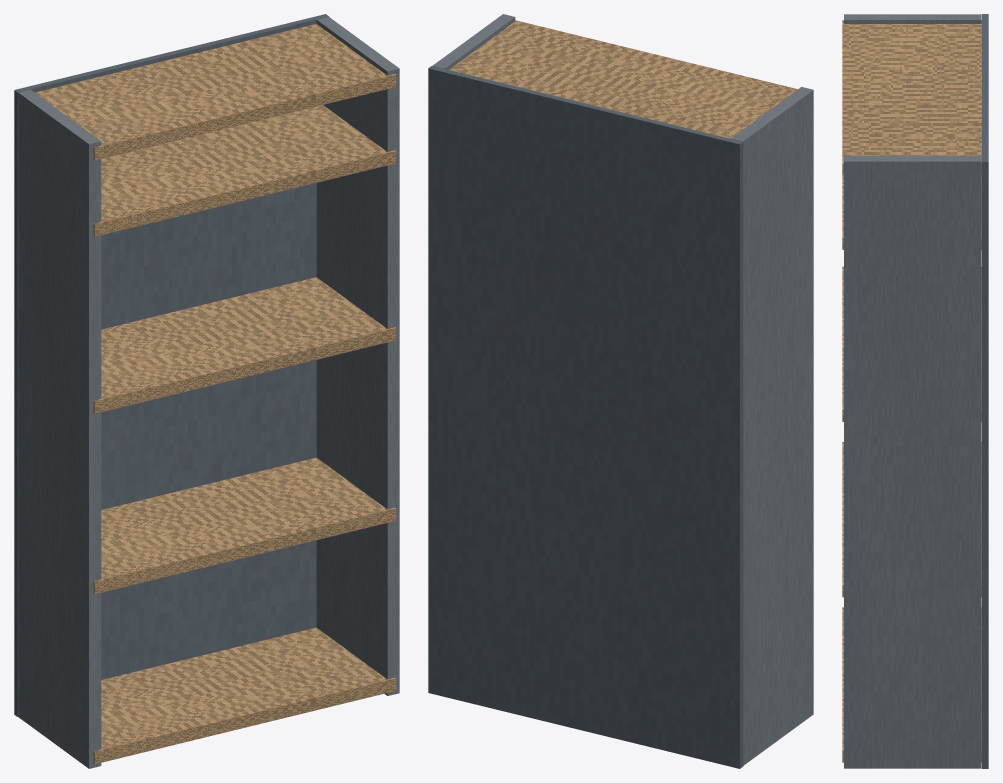
The model's file is shelf_office01.glb.
3 renders of one model, left to right at view 1: azimuth 30°, elevation 25°; view 2: azimuth 150°, elevation 25°; view 3: azimuth 270°, elevation 25°, orthographic. The views are drawn at different scales.
Parts seen in each view (by area): view 1: shelves, frame, back; view 2: back, frame, shelves; view 3: frame, shelves, back.
Boxes of the visible parts, x1=… form: shelves: x1=35, y1=24, x2=396, y2=764; frame: x1=18, y1=17, x2=399, y2=768; back: x1=14, y1=14, x2=329, y2=716; back: x1=428, y1=66, x2=743, y2=768; frame: x1=432, y1=14, x2=813, y2=765; shelves: x1=449, y1=20, x2=797, y2=138; frame: x1=844, y1=14, x2=981, y2=768; shelves: x1=842, y1=20, x2=981, y2=762; back: x1=982, y1=14, x2=988, y2=768.
Bounding box in the file's own units: 0.94 × 1.8 × 0.394.
3 materials, 3 textured.
